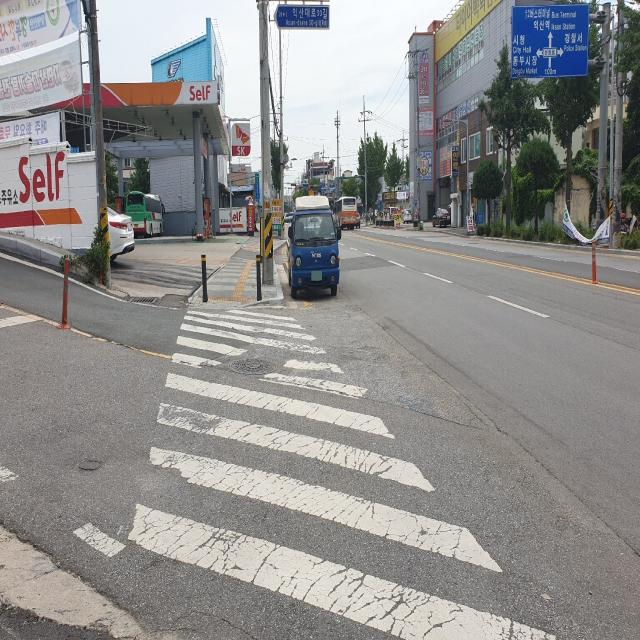횡단보도: (128, 309, 558, 640)
